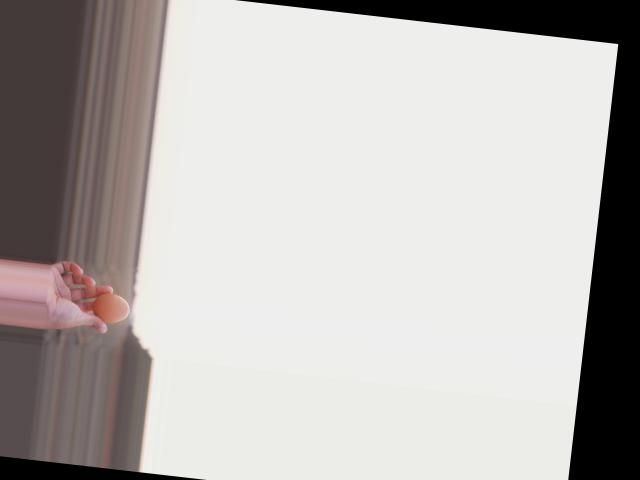egg: (92, 291, 131, 324)
